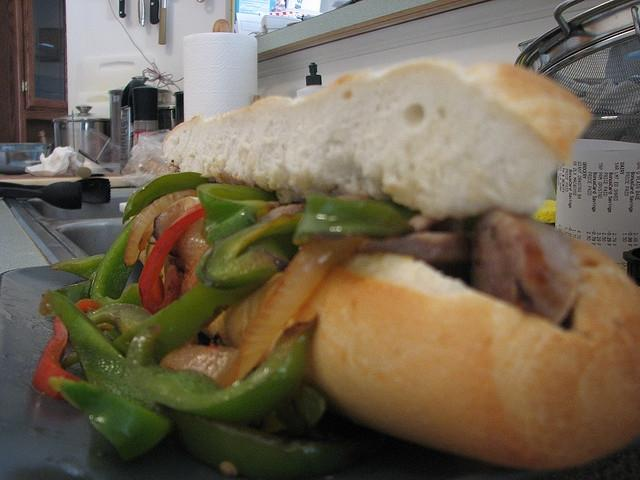bell pepper: (127, 312, 317, 420), (165, 407, 388, 479), (113, 279, 264, 367), (48, 288, 154, 412), (196, 210, 304, 290), (138, 202, 206, 312), (293, 194, 414, 246), (196, 183, 282, 244), (122, 172, 219, 225), (90, 214, 144, 308), (32, 317, 80, 402), (38, 279, 94, 317), (50, 254, 105, 280)
onion: (158, 234, 374, 388), (124, 190, 198, 266), (155, 197, 211, 292), (224, 273, 284, 346), (138, 220, 154, 252)
